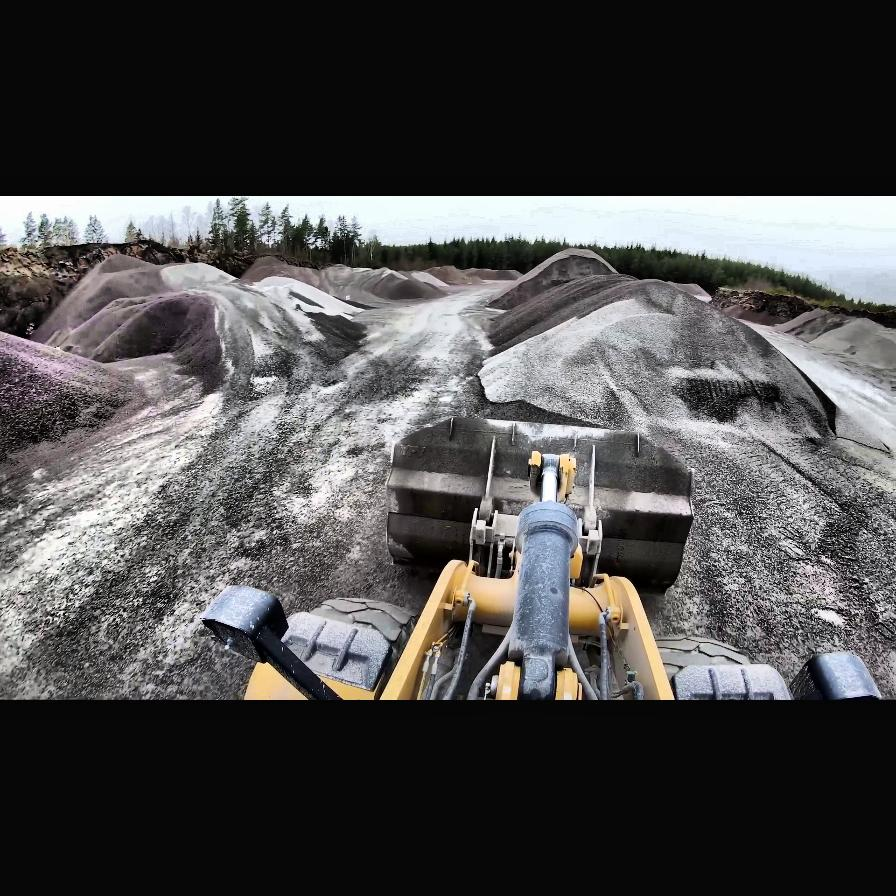anchor: (528, 452, 578, 505)
pile of gravel: (485, 276, 835, 456), (30, 255, 364, 393), (1, 332, 147, 468), (246, 258, 456, 306), (482, 248, 624, 312), (786, 314, 894, 368)
